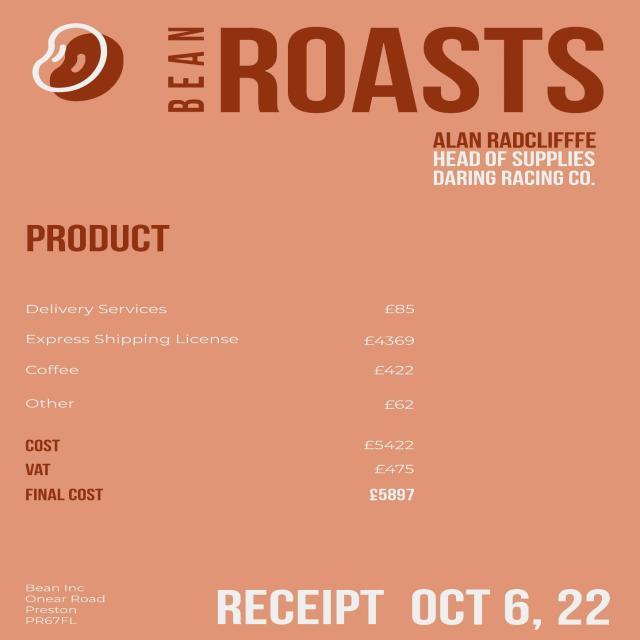ROI: (18, 212, 446, 418), (154, 16, 620, 120), (11, 433, 452, 518), (190, 582, 622, 632), (408, 128, 613, 196), (18, 19, 140, 108), (2, 573, 125, 639)
